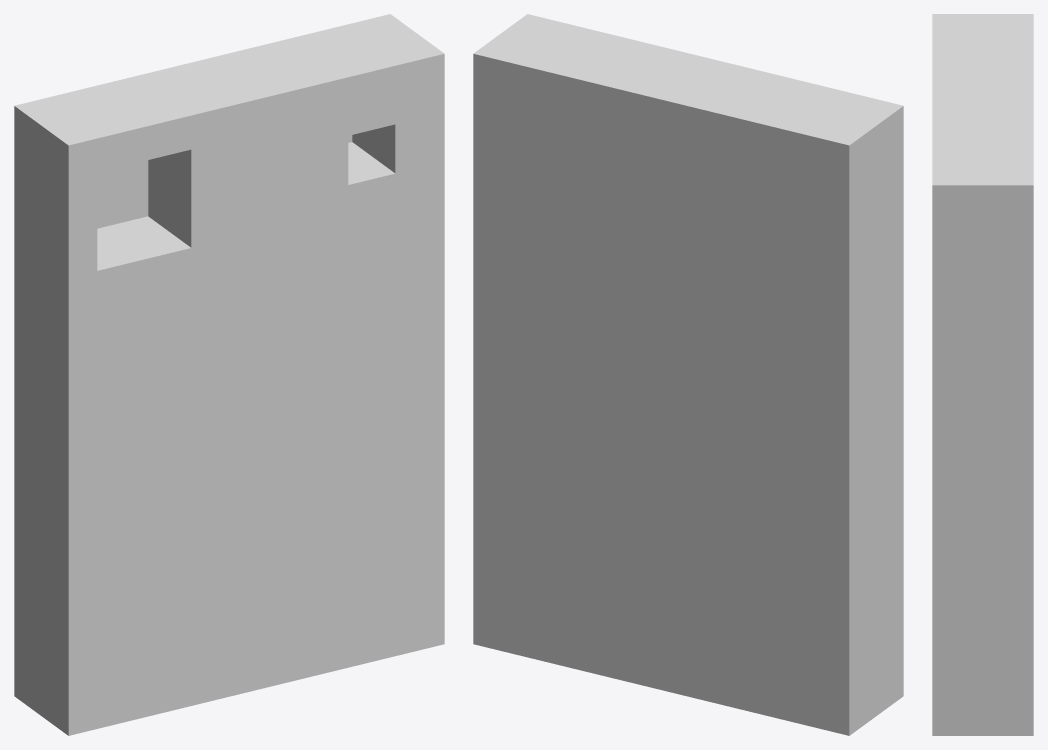
The model's file is placard_2022.dae.
The picture shows the model from 3 angles, left to right: view 1: azimuth 30°, elevation 25°; view 2: azimuth 150°, elevation 25°; view 3: azimuth 270°, elevation 25°; orthographic projection. The views are drawn at different scales.
Parts seen in each view (by area): view 1: Box001; view 2: Box001; view 3: Box001.
Part boxes in pixels (x1,y1,x2,y2): Box001: (14,14,444,735); Box001: (473,14,903,735); Box001: (932,14,1033,735).
Bounding box in the file's own units: 200 × 50 × 300.
1 material, 1 textured.
